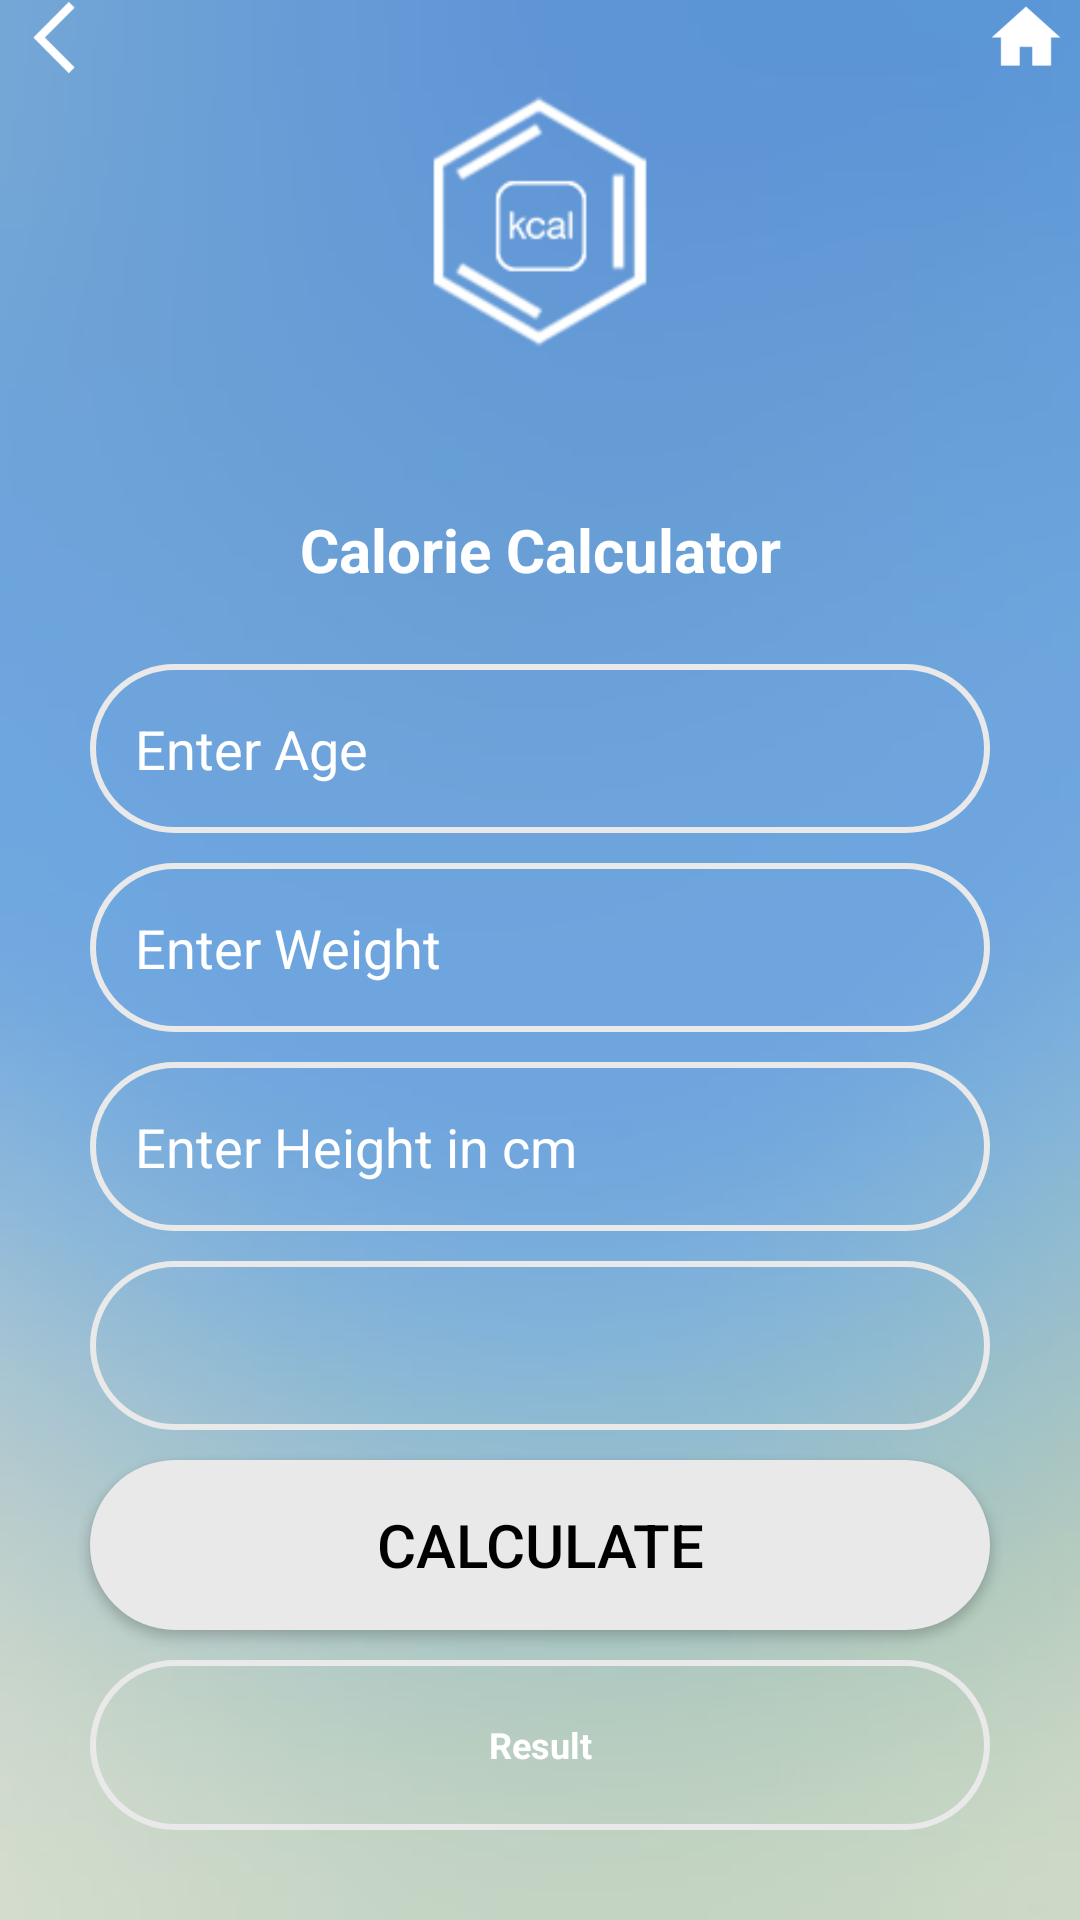

Named icons in this screenshot (1080x1920) and their bounding boxes, [x1, y1, x2, y2]:
back: [33, 2, 75, 73]
home: [992, 7, 1060, 66]
